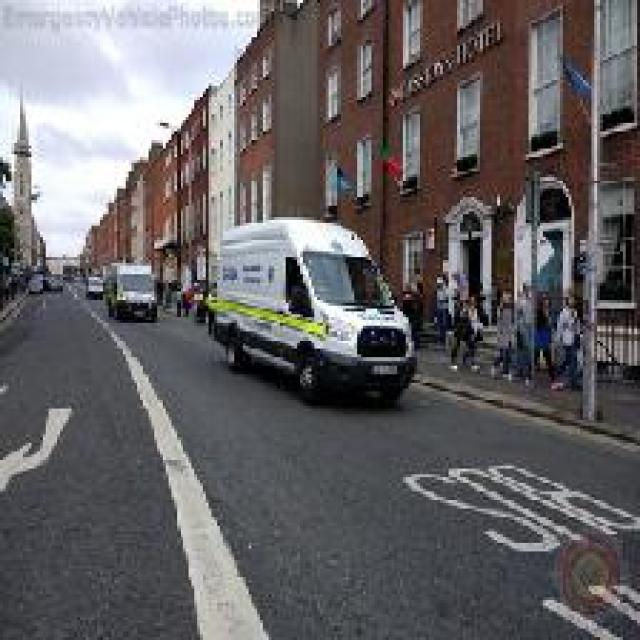Ambulance: (206, 214, 417, 406), (100, 260, 157, 320)
